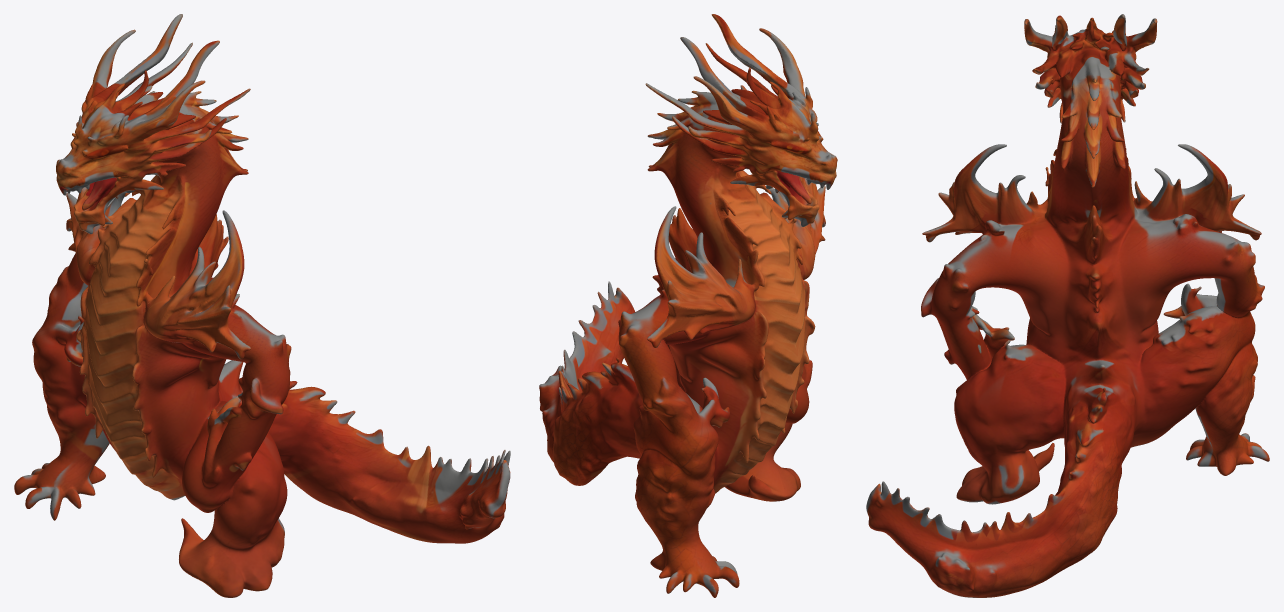
The model's file is gold-dragon.glb.
The picture shows the model from 3 angles, left to right: view 1: azimuth 30°, elevation 25°; view 2: azimuth 150°, elevation 25°; view 3: azimuth 270°, elevation 25°; orthographic projection. The views are drawn at different scales.
Visible parts, largest first — view 1: tripo_node_a13a33db-5bce-4319-b7df-5bdabd83ae94; view 2: tripo_node_a13a33db-5bce-4319-b7df-5bdabd83ae94; view 3: tripo_node_a13a33db-5bce-4319-b7df-5bdabd83ae94.
Boxes of the visible parts, x1,y1,x2,y2 form: tripo_node_a13a33db-5bce-4319-b7df-5bdabd83ae94: [14, 14, 510, 597]; tripo_node_a13a33db-5bce-4319-b7df-5bdabd83ae94: [539, 14, 837, 597]; tripo_node_a13a33db-5bce-4319-b7df-5bdabd83ae94: [866, 14, 1269, 597].
Size of the model in its own units: 0.7418 by 1 by 0.7366.
1 material, 1 textured.
